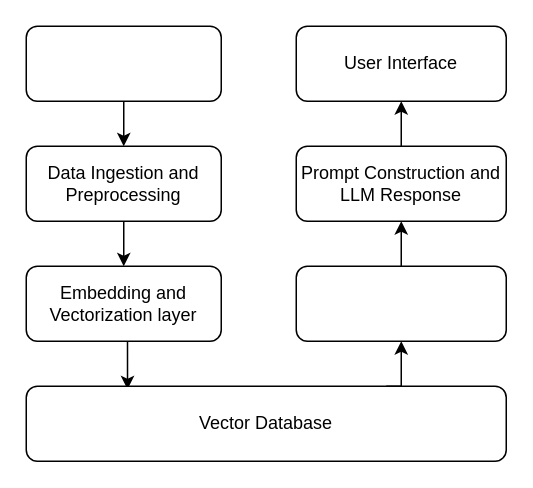
Some shapes in this 533 by 488 pixel diagram are drawn without their labels. The shapes that lost their labels are listed below. From the top down, each one's centre as x and y in pixels, then its label:
the point at 123,63: Telemetric Data Logs
the point at 400,303: Retrieved Context through Similarity Search
